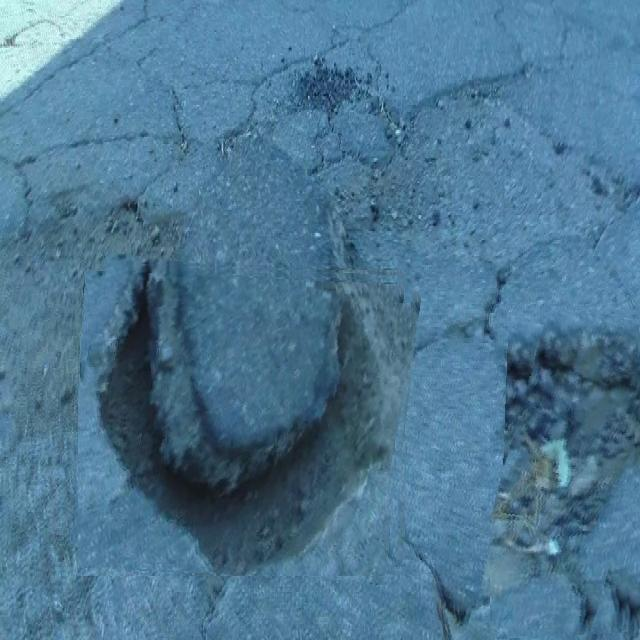Pothole: (78, 261, 413, 576), (490, 310, 640, 640)
